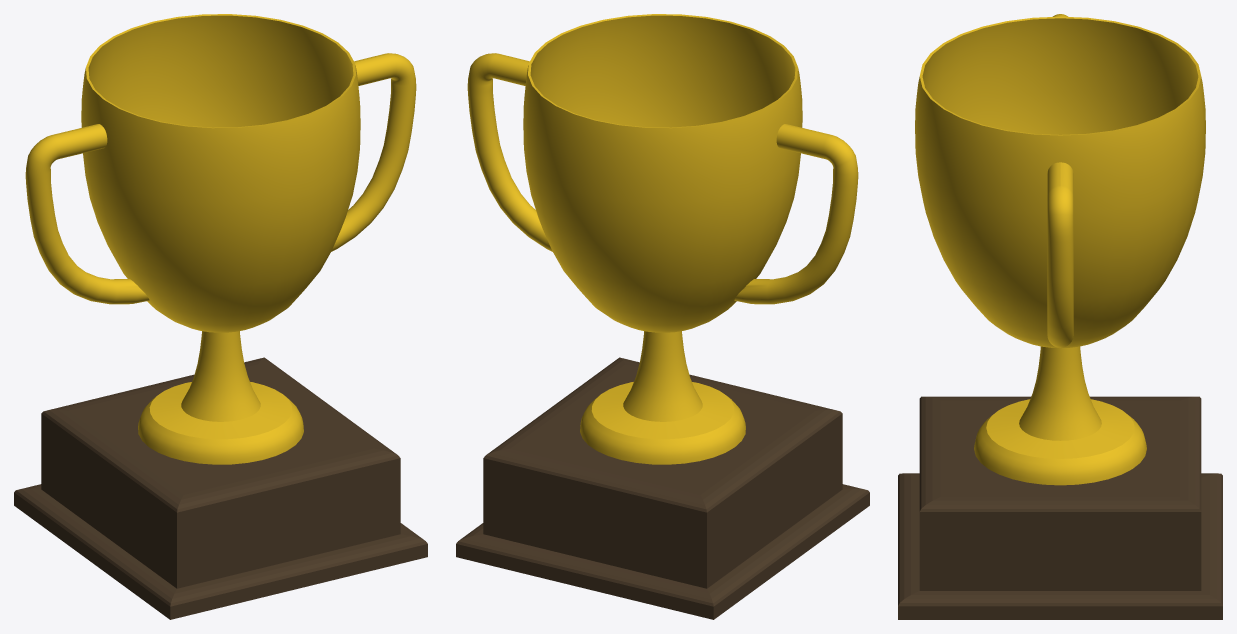
Rendered from Copa.fbx.
The picture shows the model from 3 angles, left to right: view 1: azimuth 30°, elevation 25°; view 2: azimuth 150°, elevation 25°; view 3: azimuth 270°, elevation 25°; orthographic projection. The views are drawn at different scales.
Visible parts, largest first — view 1: Copa; view 2: Copa; view 3: Copa.
Part boxes in pixels (x1,y1,x2,y2): Copa: (14,14,427,619); Copa: (456,14,869,619); Copa: (898,14,1222,619).
Size of the model in its own units: 330 by 375 by 231.
